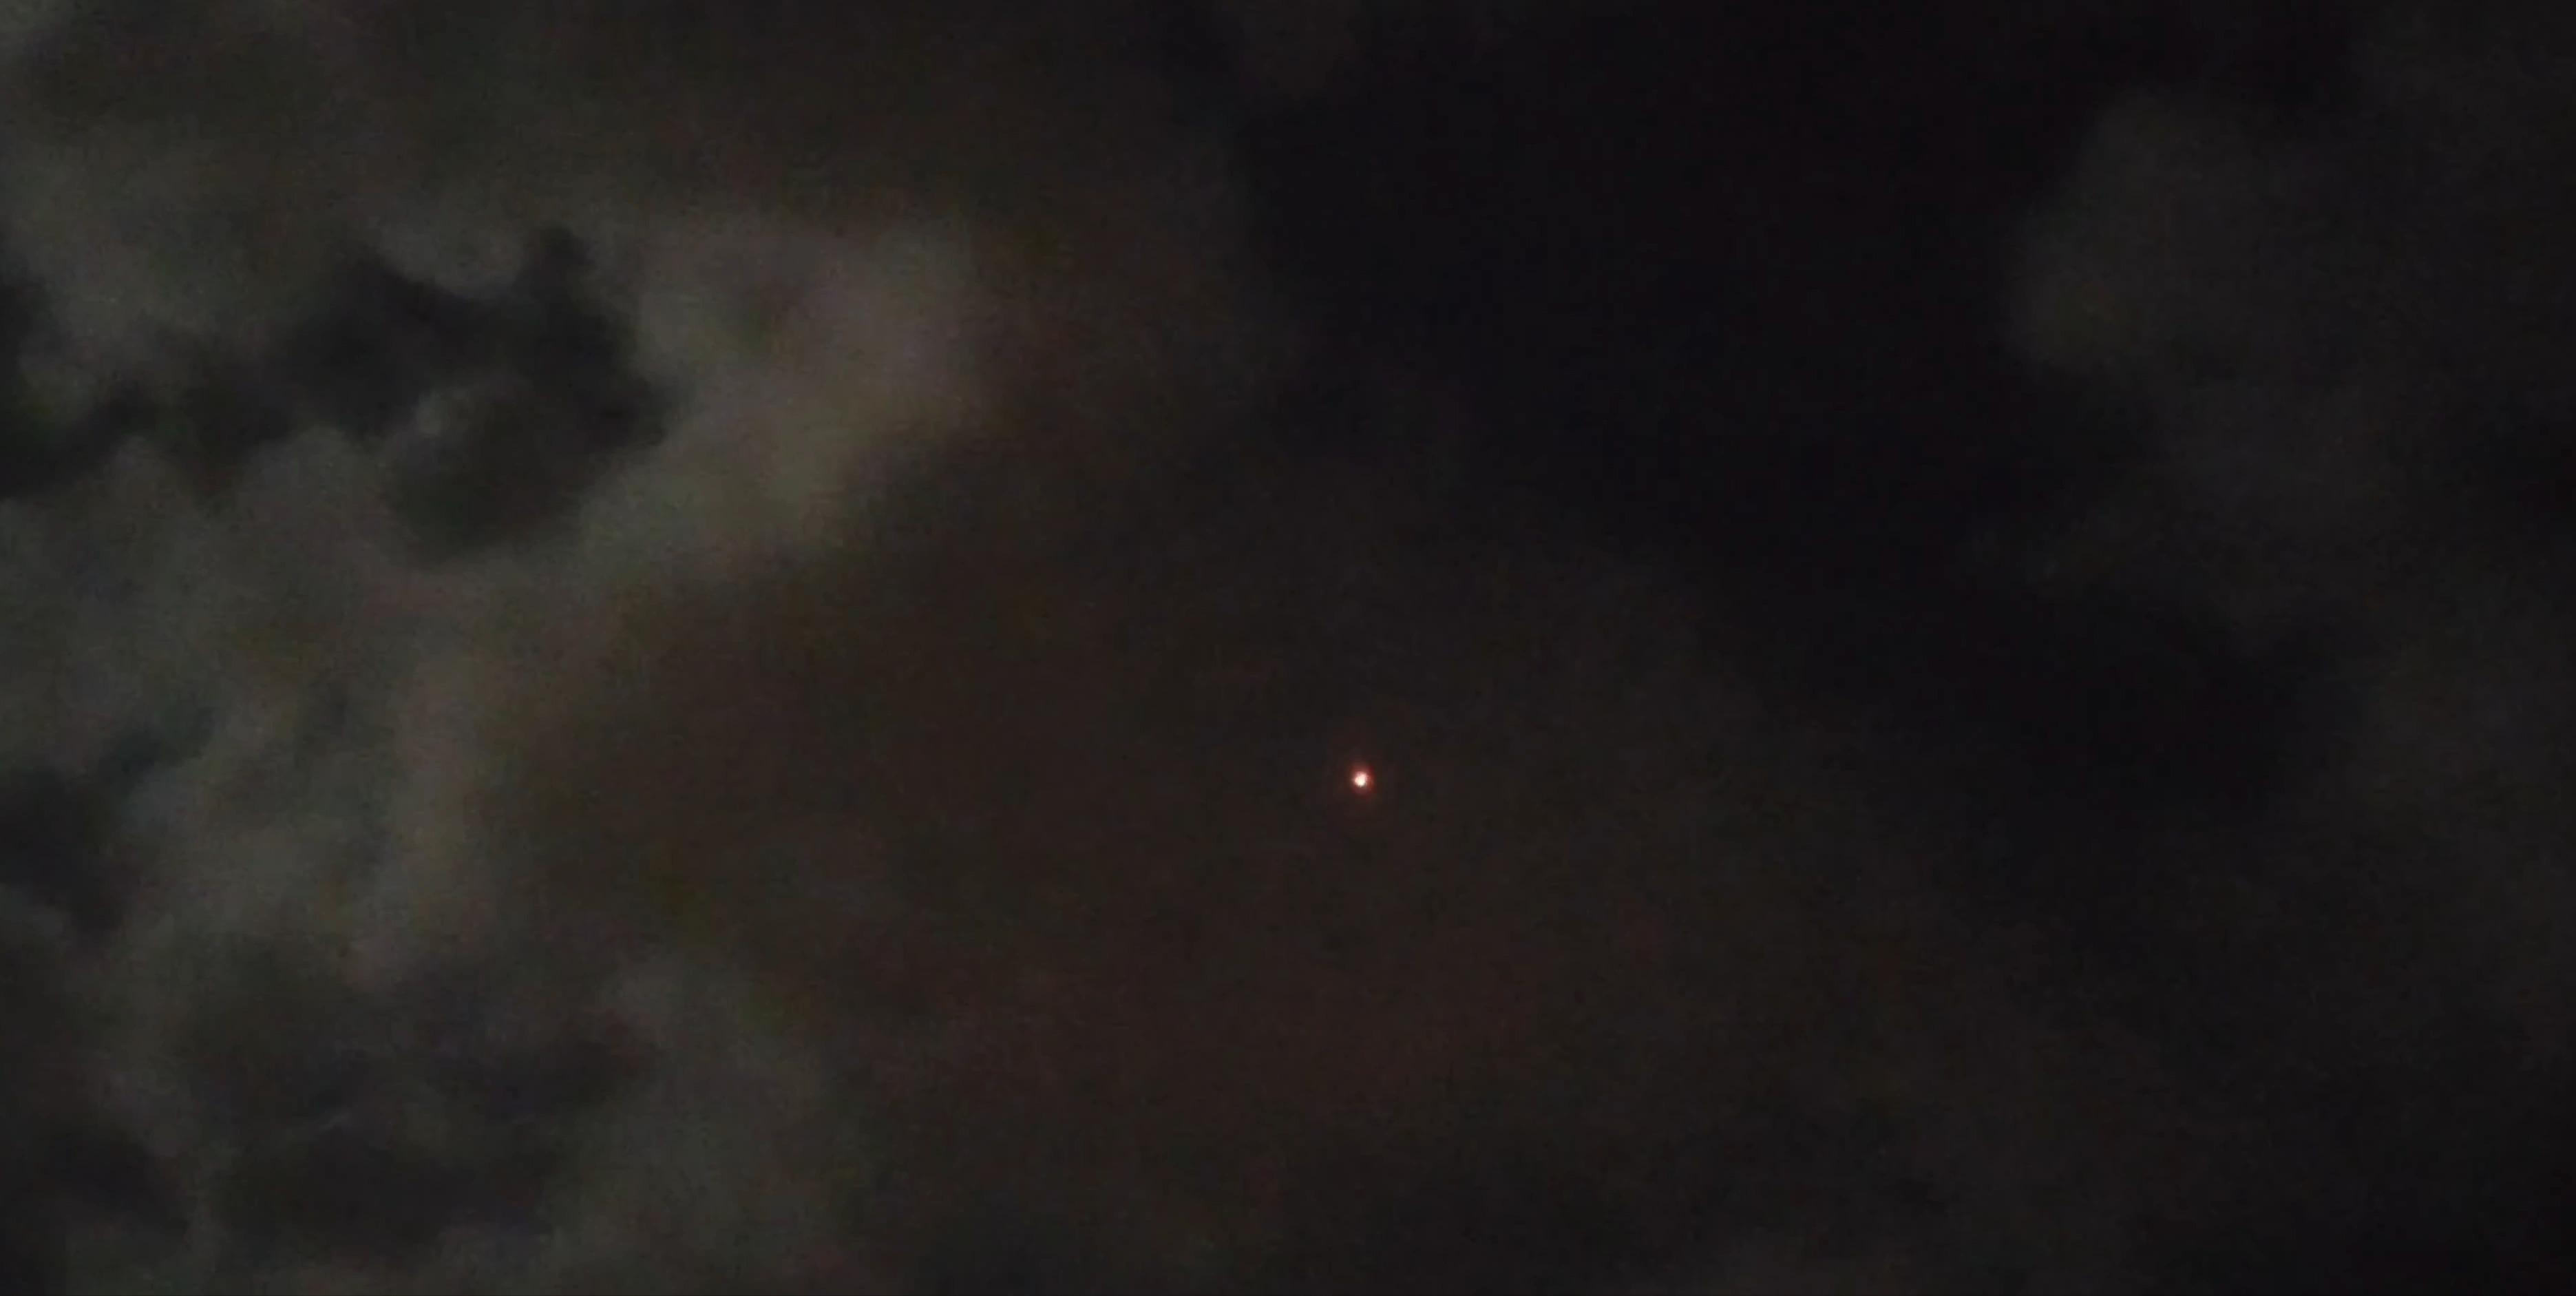Plane: (1338, 762, 1386, 800)
